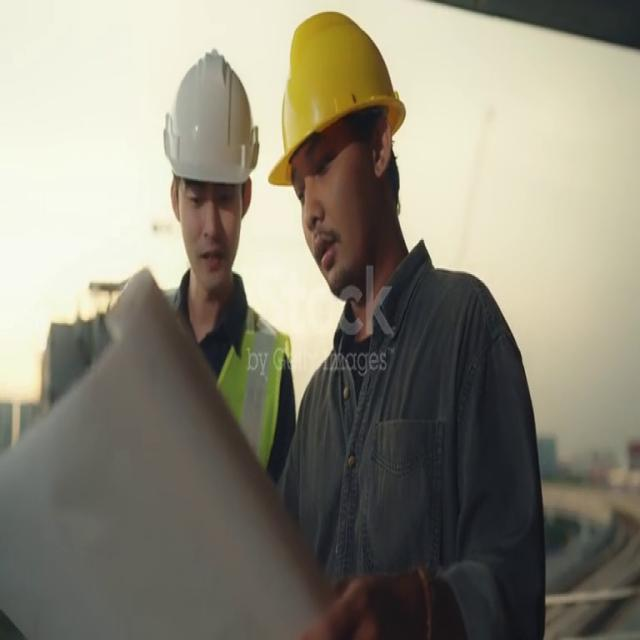capacete: (264, 9, 415, 198), (156, 32, 264, 202)
